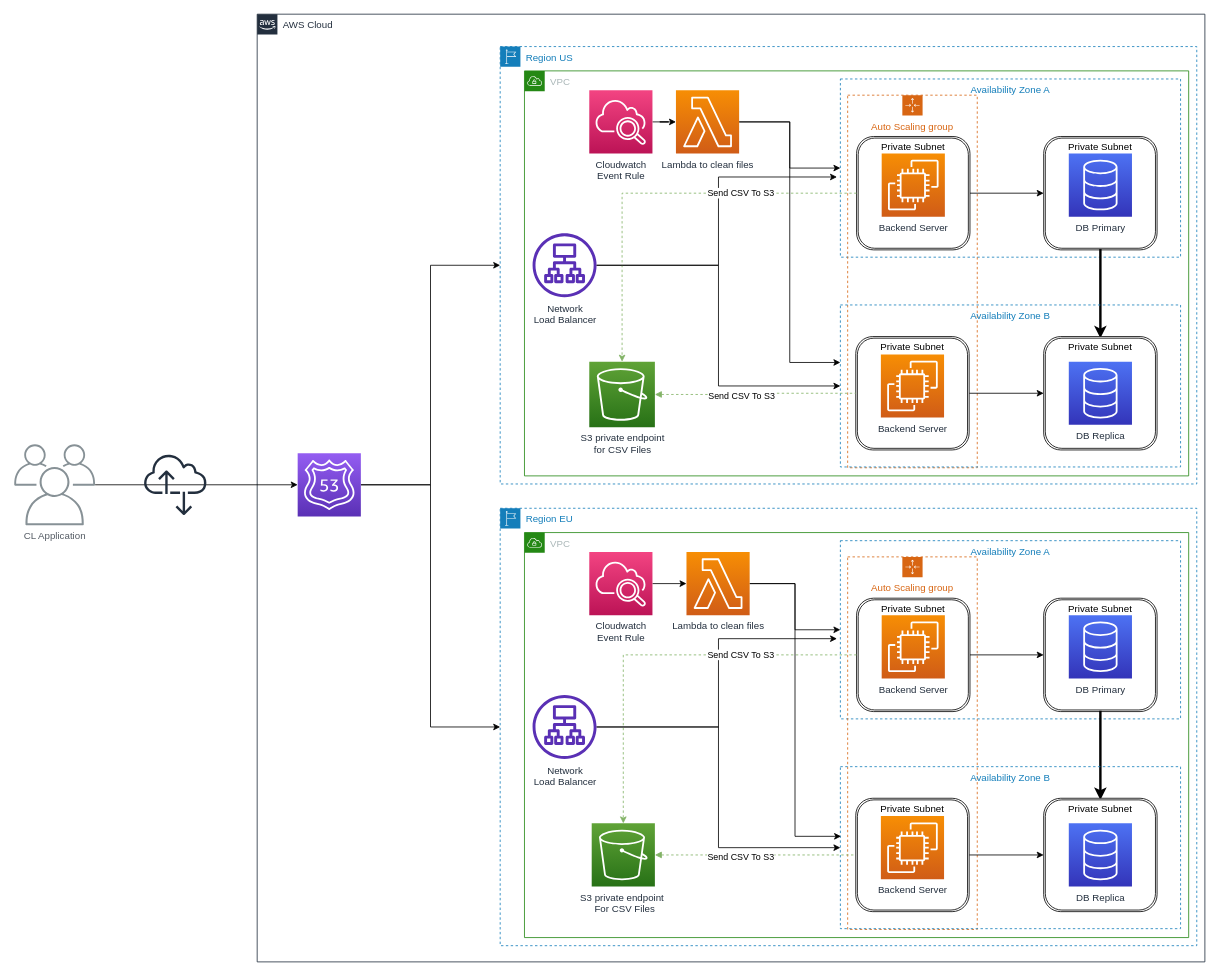
The diagram is 1219 pixels wide and 976 high, and some of its shapes have lost their labels. The centre of each missing label's shape, as x and y in pixels:
"Internet" belongs at (175,484).
"Route53 Latency-based routing" belongs at (329,484).
